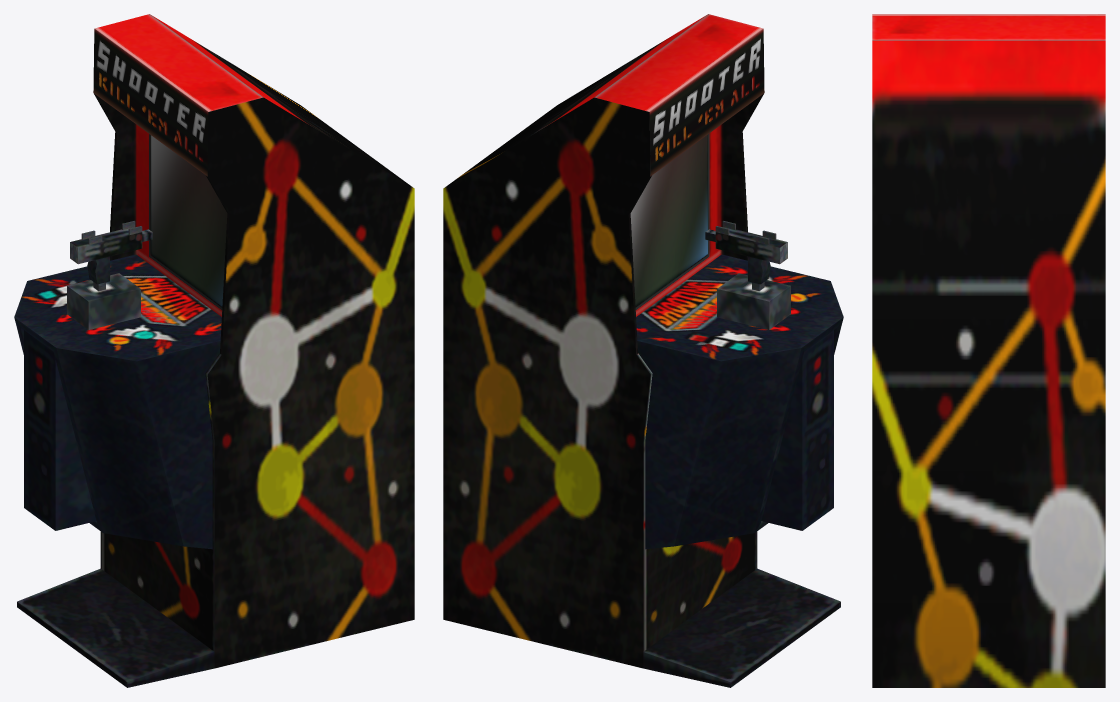
Rendered from Furniture_Arcade2.fbx.
3 renders of one model, left to right at view 1: azimuth 30°, elevation 25°; view 2: azimuth 150°, elevation 25°; view 3: azimuth 270°, elevation 25°, orthographic. The views are drawn at different scales.
Parts seen in each view (by area): view 1: Empty_Mesh; view 2: Empty_Mesh; view 3: Empty_Mesh.
Boxes of the visible parts, left/top/right/bottom form: Empty_Mesh: left=14, top=14, right=414, bottom=687; Empty_Mesh: left=443, top=14, right=843, bottom=687; Empty_Mesh: left=872, top=14, right=1105, bottom=687.
Size of the model in its own units: 97807 by 162062 by 59926.
